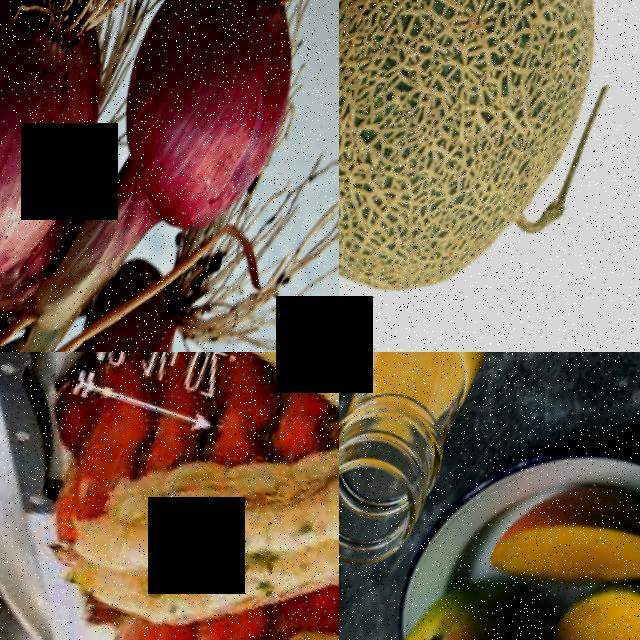lemon: (188, 352, 339, 416)
mango: (348, 551, 580, 640)
melon: (339, 0, 640, 352)
onion: (74, 0, 335, 261), (0, 0, 138, 320), (63, 250, 203, 352)
